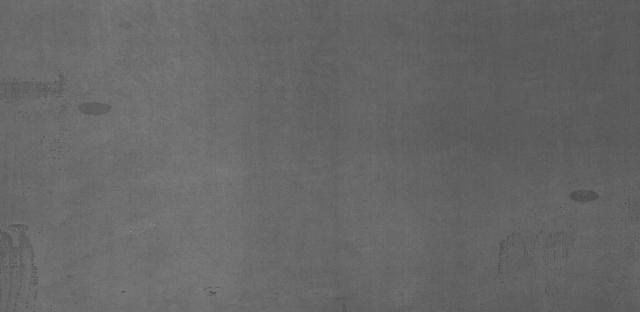oil_spot: (75, 100, 116, 122), (564, 185, 603, 206)
water_spot: (0, 211, 57, 306), (490, 219, 572, 274), (0, 71, 77, 106)
